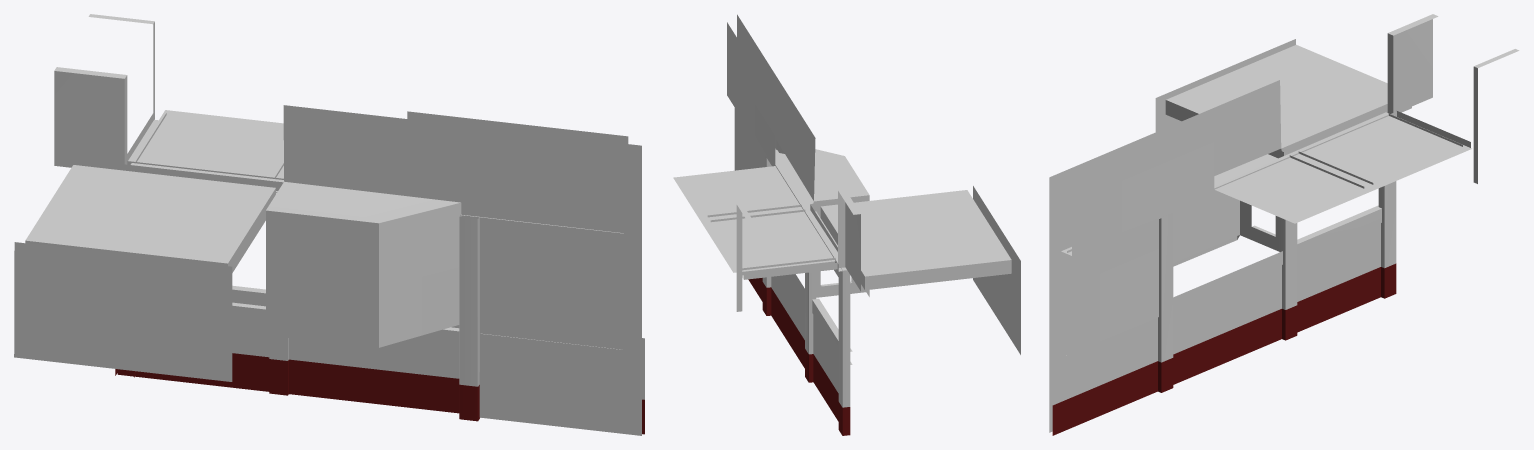
Rendered from SM_H_Building_Tide_Jail_Monitor_01c_ATLAS.fbx.
3 renders of one model, left to right at view 1: azimuth 30°, elevation 25°; view 2: azimuth 150°, elevation 25°; view 3: azimuth 270°, elevation 25°, orthographic. The views are drawn at different scales.
Parts seen in each view (by area): view 1: SM_H_Building_Tide_Jail_Monitor_01c_ATLAS; view 2: SM_H_Building_Tide_Jail_Monitor_01c_ATLAS; view 3: SM_H_Building_Tide_Jail_Monitor_01c_ATLAS.
Boxes of the visible parts, box(x1,y1,x2,y2) form: SM_H_Building_Tide_Jail_Monitor_01c_ATLAS: box(14, 14, 644, 435); SM_H_Building_Tide_Jail_Monitor_01c_ATLAS: box(673, 14, 1020, 435); SM_H_Building_Tide_Jail_Monitor_01c_ATLAS: box(1049, 14, 1519, 435).
Size of the model in its own units: 2758 by 2594 by 1589.
